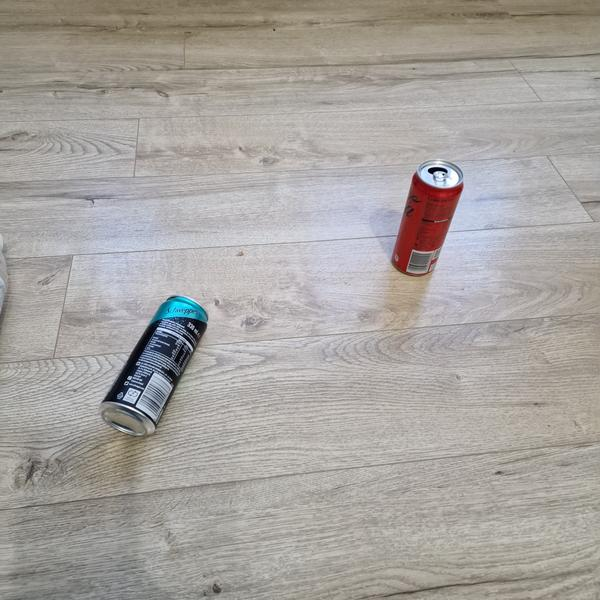can: (92, 284, 220, 447), (388, 153, 469, 284)
